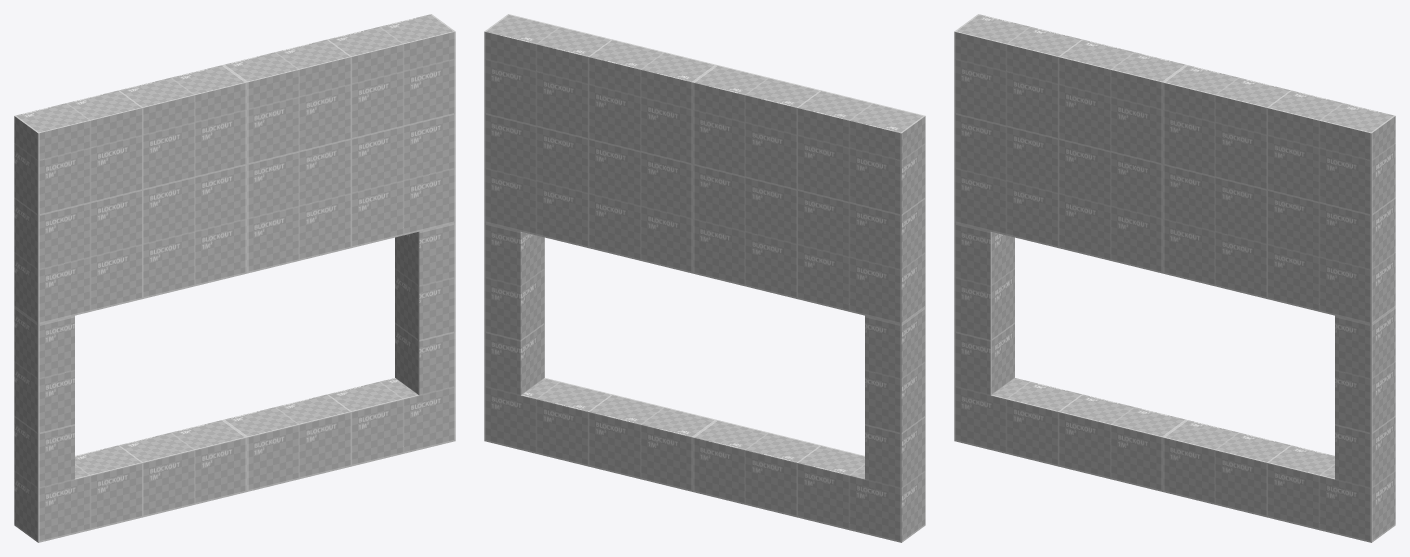
Rendered from BlockoutThickWall08WindowLow.fbx.
3 renders of one model, left to right at view 1: azimuth 30°, elevation 25°; view 2: azimuth 150°, elevation 25°; view 3: azimuth 330°, elevation 25°, orthographic.
Parts seen in each view (by area): view 1: BlockoutThickWall08WindowLow; view 2: BlockoutThickWall08WindowLow; view 3: BlockoutThickWall08WindowLow.
Part boxes in pixels (box(x1,y1,x2,y2)): BlockoutThickWall08WindowLow: box(14, 14, 455, 542); BlockoutThickWall08WindowLow: box(484, 14, 925, 542); BlockoutThickWall08WindowLow: box(954, 14, 1395, 542).
Bounding box in the file's own units: 800 × 750 × 80.
